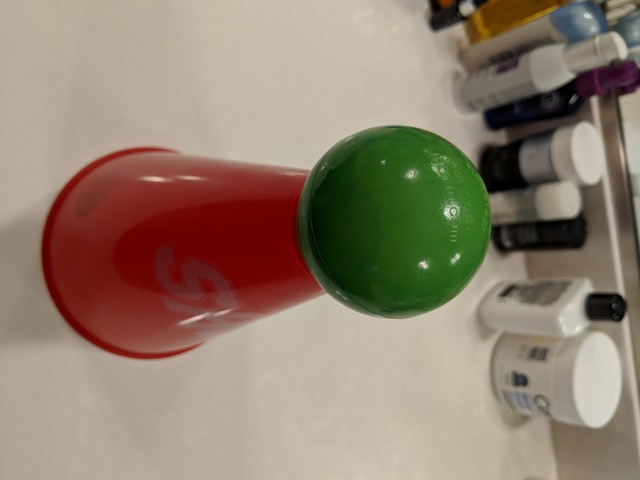Ball: (296, 129, 493, 314)
